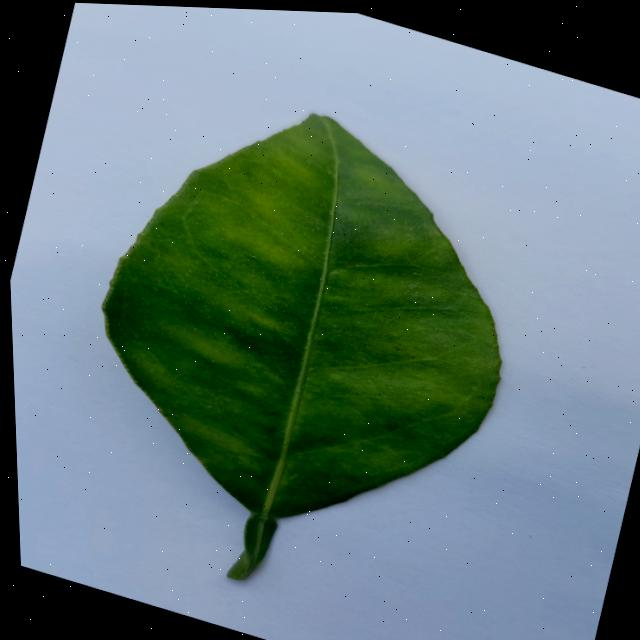greening: (103, 114, 500, 578)
